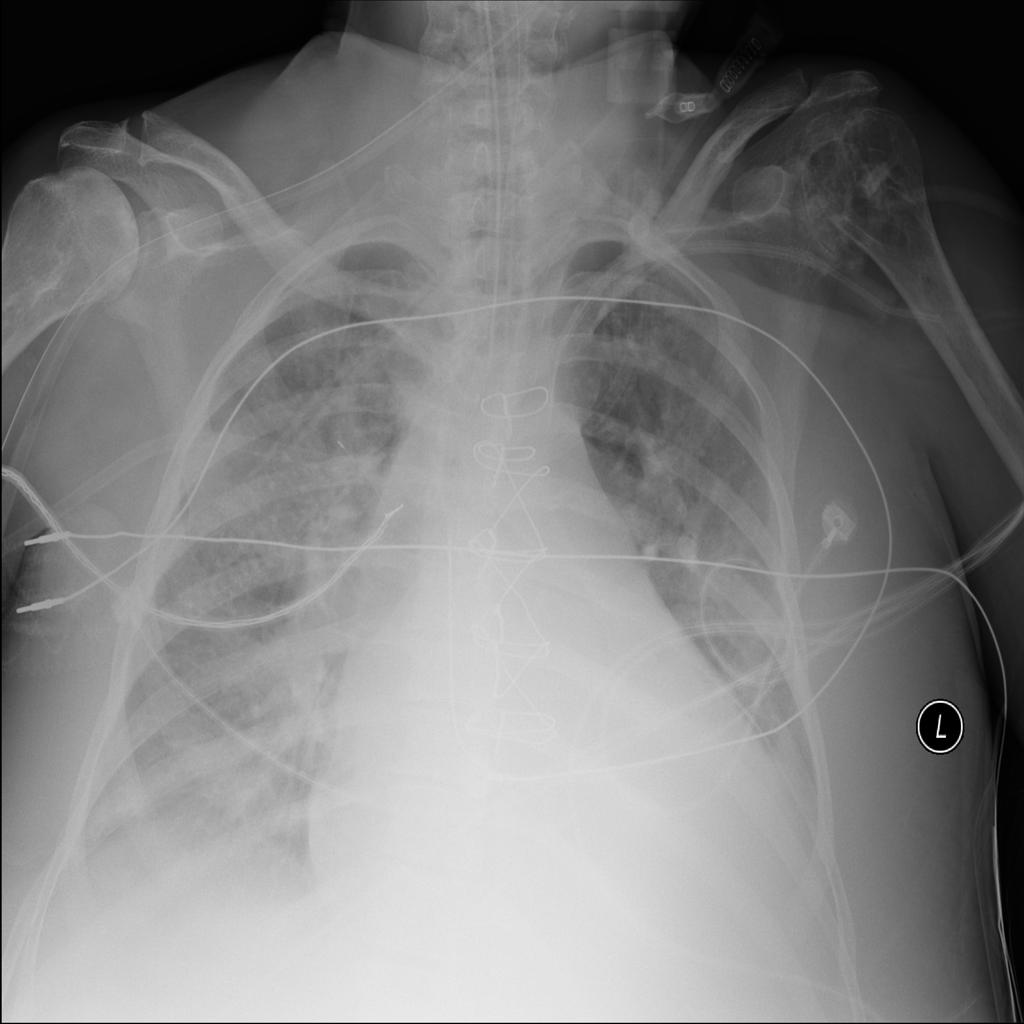Cardiomegaly: (260, 501, 824, 991)
